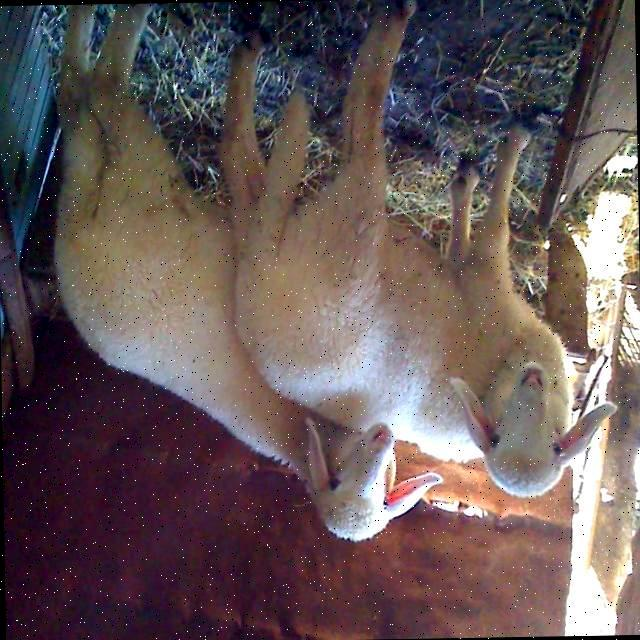sheep: (57, 5, 441, 543)
